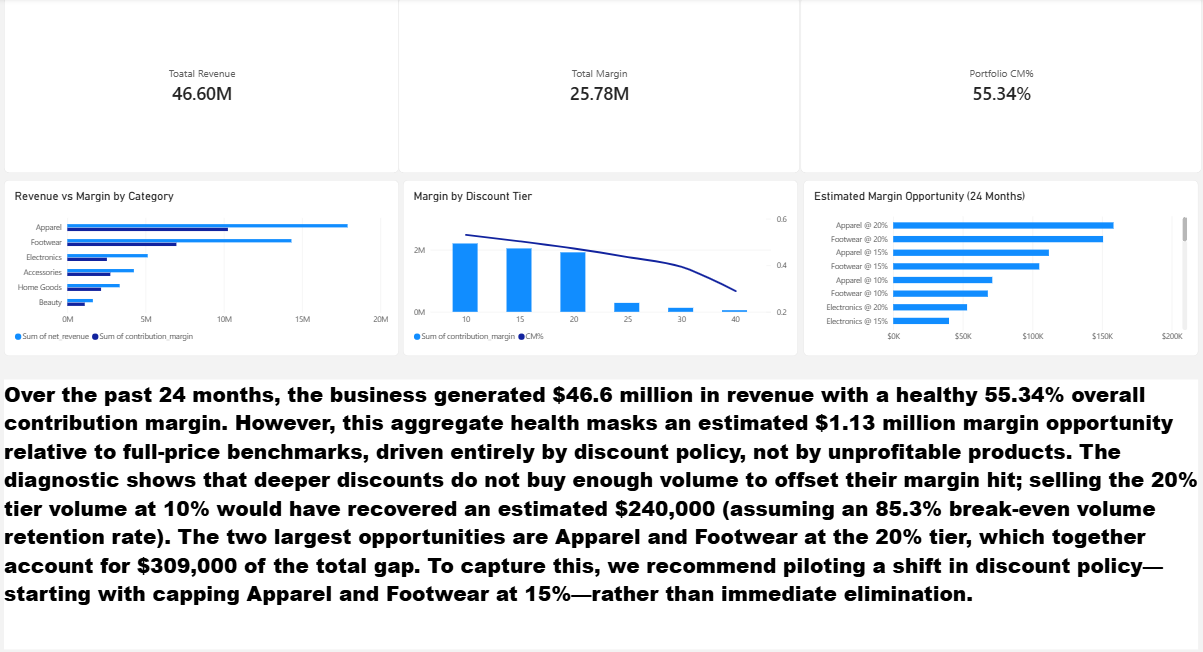

Layout of this report page (visuals, bound fields, positions):
{"tool":"powerbi","page":{"name":"Reatail_profitability_diagnostics","canvas":[1920,1080],"ordinal":0},"visuals":[{"type":"cardVisual","fields":{"Data":["Sum(Category_Metrics.net_revenue)"]},"box":[10,0,628,280],"z":0},{"type":"cardVisual","fields":{"Data":["Sum(Category_Metrics.contribution_margin)"]},"box":[638,0,638,280],"z":1},{"type":"cardVisual","fields":{"Data":["Category_Metrics.Portfolio CM%"]},"box":[1276,0,638,280],"z":2},{"type":"clusteredBarChart","title":"Revenue vs Margin by Category","fields":{"Category":["Category_Metrics.category"],"Y":["Sum(Category_Metrics.net_revenue)","Sum(Category_Metrics.contribution_margin)"]},"box":[10,290,628,280],"z":3},{"type":"lineClusteredColumnComboChart","title":"Margin by Discount Tier","fields":{"Category":["Discount_Tiers.discount_tier"],"Y":["Sum(Discount_Tiers.contribution_margin)"],"Y2":["Discount_Tiers.CM%"]},"box":[644,290,628,280],"z":4},{"type":"clusteredBarChart","title":"Estimated Margin Opportunity (24 Months) ","fields":{"Category":["Leakage_Combos.Category_Tier"],"Y":["Sum(Leakage_Combos.leakage)"]},"box":[1281.2,291.1,629.9,279.2],"z":5},{"type":"textbox","box":[9.5,608.4,1904,429.5],"z":6}]}

Visuals, with their boxes on the page's 1920x1080 design canvas (x1, y1, x2, y2). These are canvas units, not pixel positions in the 1203x652 screenshot, which may show the page scaled, cropped or inside an application window:
cardVisual - Sum(Category_Metrics.net_revenue): rect(10, 0, 638, 280)
cardVisual - Sum(Category_Metrics.contribution_margin): rect(638, 0, 1276, 280)
cardVisual - Category_Metrics.Portfolio CM%: rect(1276, 0, 1914, 280)
"Revenue vs Margin by Category" clusteredBarChart: rect(10, 290, 638, 570)
"Margin by Discount Tier" lineClusteredColumnComboChart: rect(644, 290, 1272, 570)
"Estimated Margin Opportunity (24 Months) " clusteredBarChart: rect(1281, 291, 1911, 570)
textbox: rect(10, 608, 1914, 1038)
